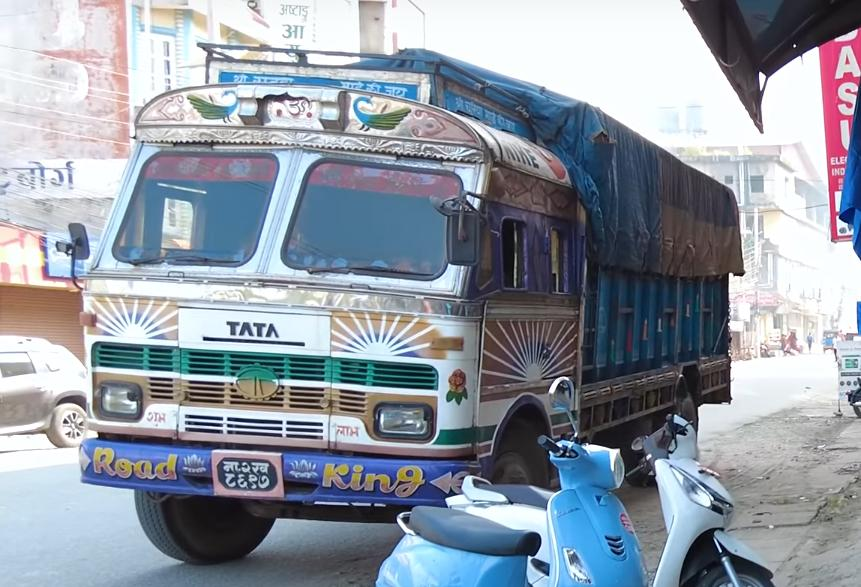truck: (58, 42, 745, 566)
